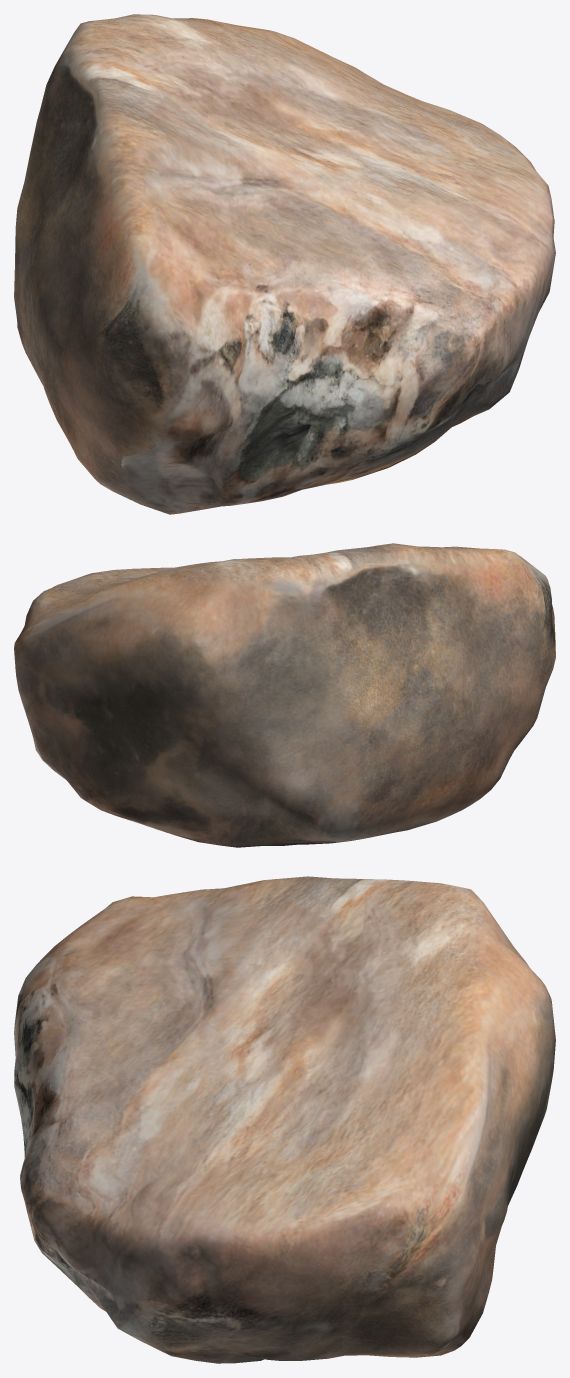
Rendered from testBoulder.glb.
3 renders of one model, top to bottom at view 1: azimuth 30°, elevation 25°; view 2: azimuth 150°, elevation 25°; view 3: azimuth 270°, elevation 25°, orthographic. The views are drawn at different scales.
Visible parts, largest first — view 1: Mesh_0; view 2: Mesh_0; view 3: Mesh_0.
Boxes of the visible parts, x1,y1,x2,y2 form: Mesh_0: [14, 14, 555, 514]; Mesh_0: [14, 543, 555, 847]; Mesh_0: [14, 876, 555, 1363].
Bounding box in the file's own units: 1.45 × 1 × 1.28.
1 material, 1 textured.
